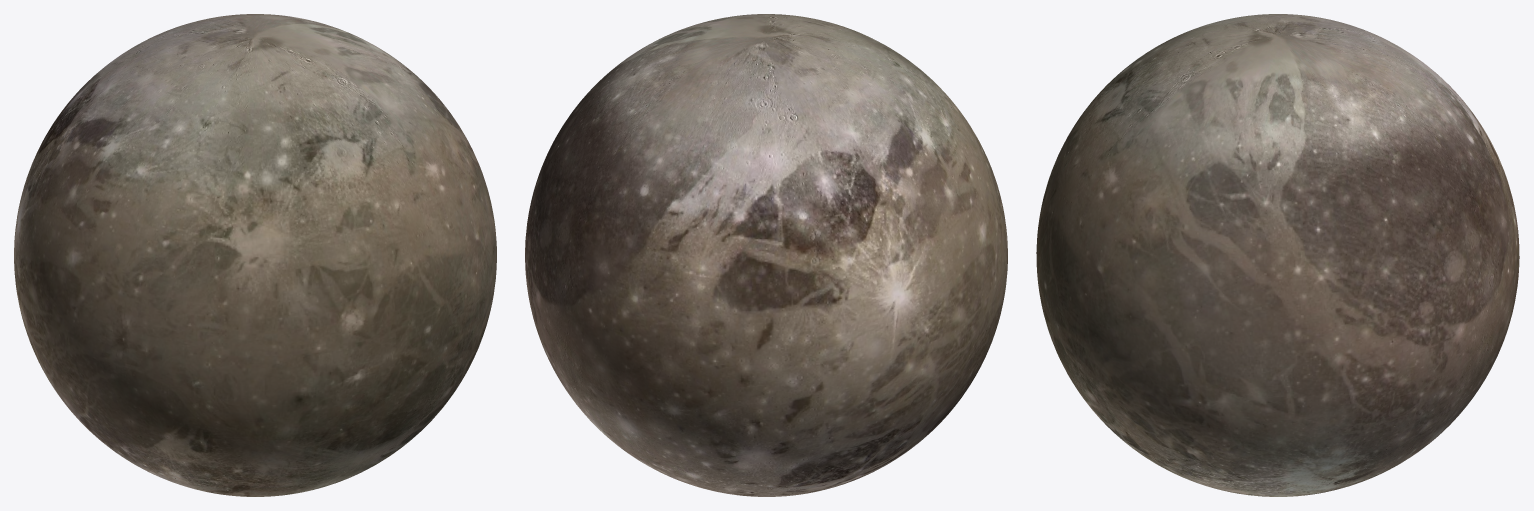
File: Ganymede_Medium.fbx
3 views of the same model, side by side, from view 1: azimuth 30°, elevation 25°; view 2: azimuth 150°, elevation 25°; view 3: azimuth 270°, elevation 25° (orthographic).
Visible parts, largest first — view 1: ganymede_Medium; view 2: ganymede_Medium; view 3: ganymede_Medium.
Part boxes in pixels (x1,y1,x2,y2): ganymede_Medium: (14, 14, 496, 496); ganymede_Medium: (525, 14, 1007, 496); ganymede_Medium: (1036, 14, 1519, 496).
Size of the model in its own units: 200 by 200 by 200.
Materials: 1 (1 with a texture image).
